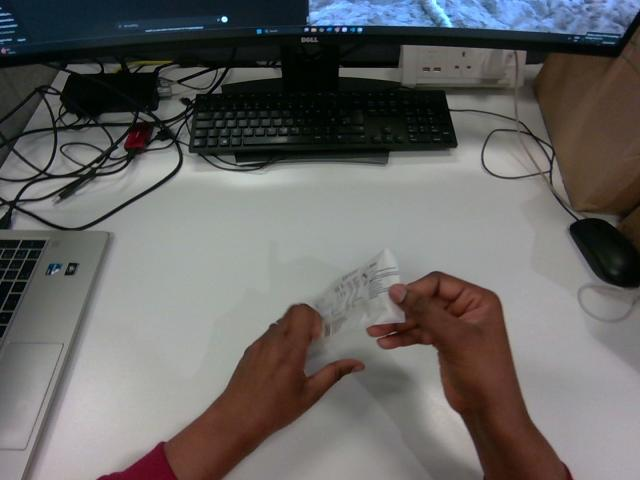syringe: (313, 249, 403, 338)
